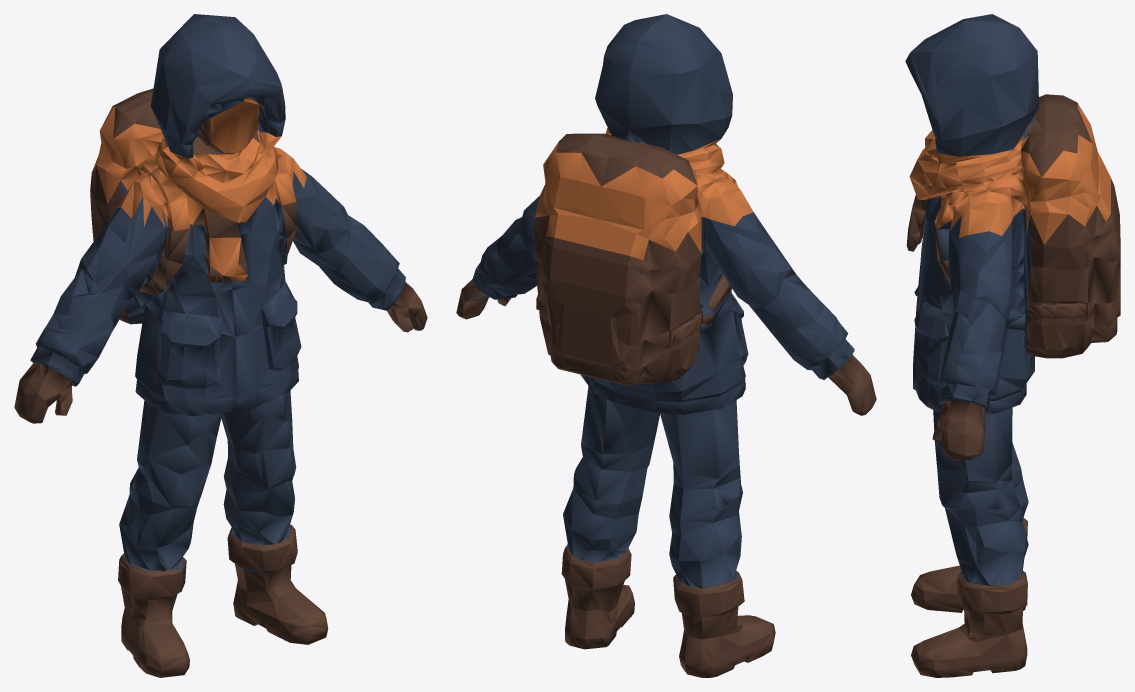
Rendered from survivor_flat.glb.
The picture shows the model from 3 angles, left to right: view 1: azimuth 30°, elevation 25°; view 2: azimuth 150°, elevation 25°; view 3: azimuth 270°, elevation 25°; orthographic projection.
Parts seen in each view (by area): view 1: material; view 2: material; view 3: material.
Boxes of the visible parts, <box> form: material: <box>14,14,427,677</box>; material: <box>456,14,876,677</box>; material: <box>905,14,1120,677</box>.
Bounding box in the file's own units: 1.2 × 1.75 × 0.5558.
